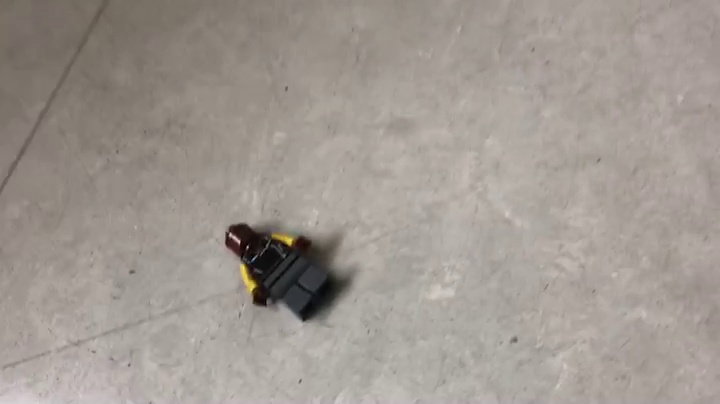people: (224, 222, 340, 324)
